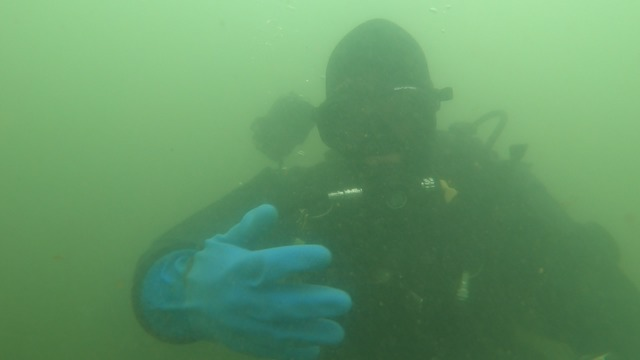Diver: (128, 15, 637, 358)
Hand: (149, 199, 352, 354)
Head: (317, 11, 449, 211)
